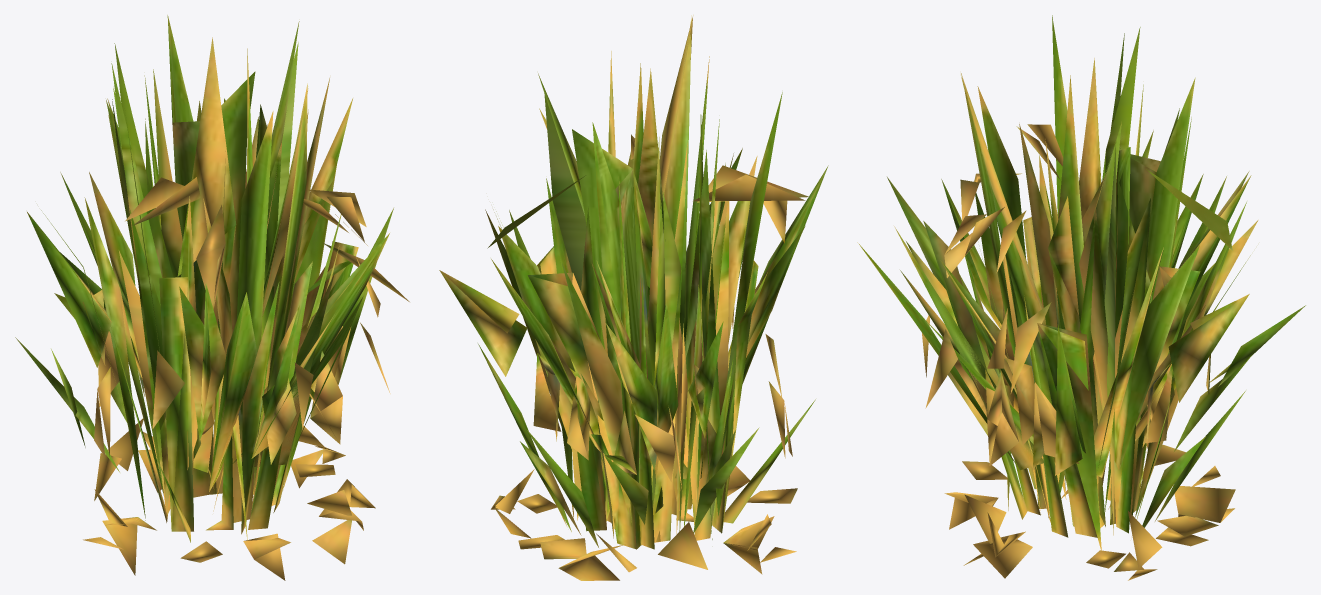
Rendered from crop-rice.lod1.glb.
3 renders of one model, left to right at view 1: azimuth 30°, elevation 25°; view 2: azimuth 150°, elevation 25°; view 3: azimuth 270°, elevation 25°, orthographic. The views are drawn at different scales.
Parts seen in each view (by area): view 1: fruit.001, plant.001; view 2: fruit.001, plant.001; view 3: fruit.001, plant.001.
Boxes of the visible parts, x1,y1,x2,y2 form: fruit.001: (54,16,409,580); plant.001: (15,15,393,542); fruit.001: (439,15,808,580); plant.001: (478,17,828,549); fruit.001: (857,15,1258,580); plant.001: (887,27,1305,527).
Bounding box in the file's own units: 0.4926 × 0.7461 × 0.6226.
1 material, 1 textured.
